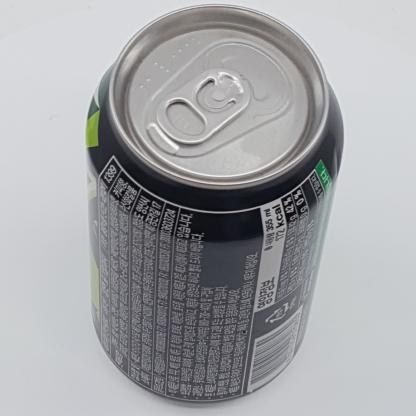------355ML: (86, 3, 345, 405)
